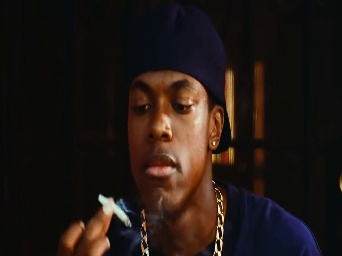smoke: (96, 193, 133, 228)
